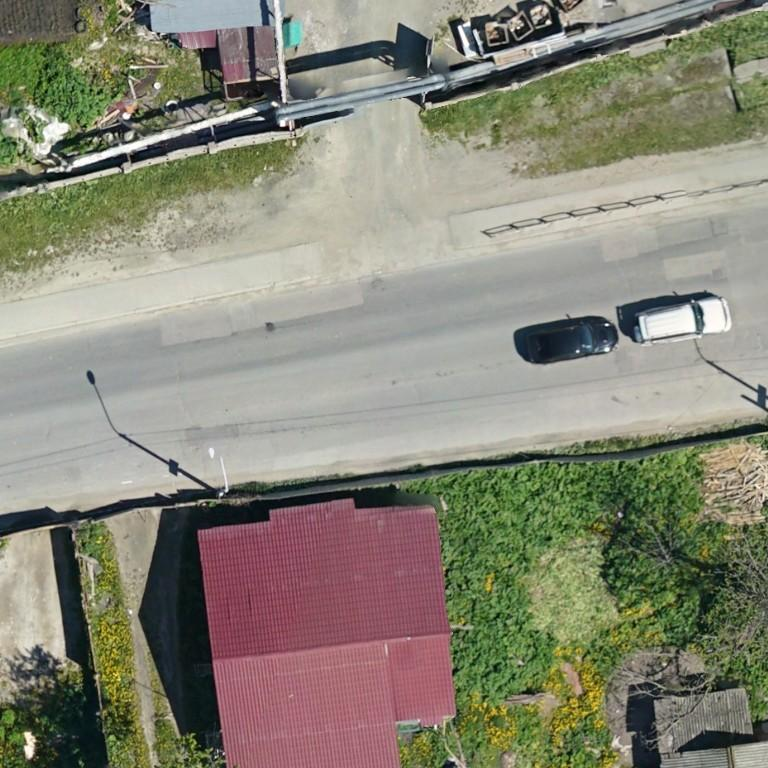hogweed: (407, 449, 715, 706), (605, 549, 700, 644), (35, 46, 110, 125)
